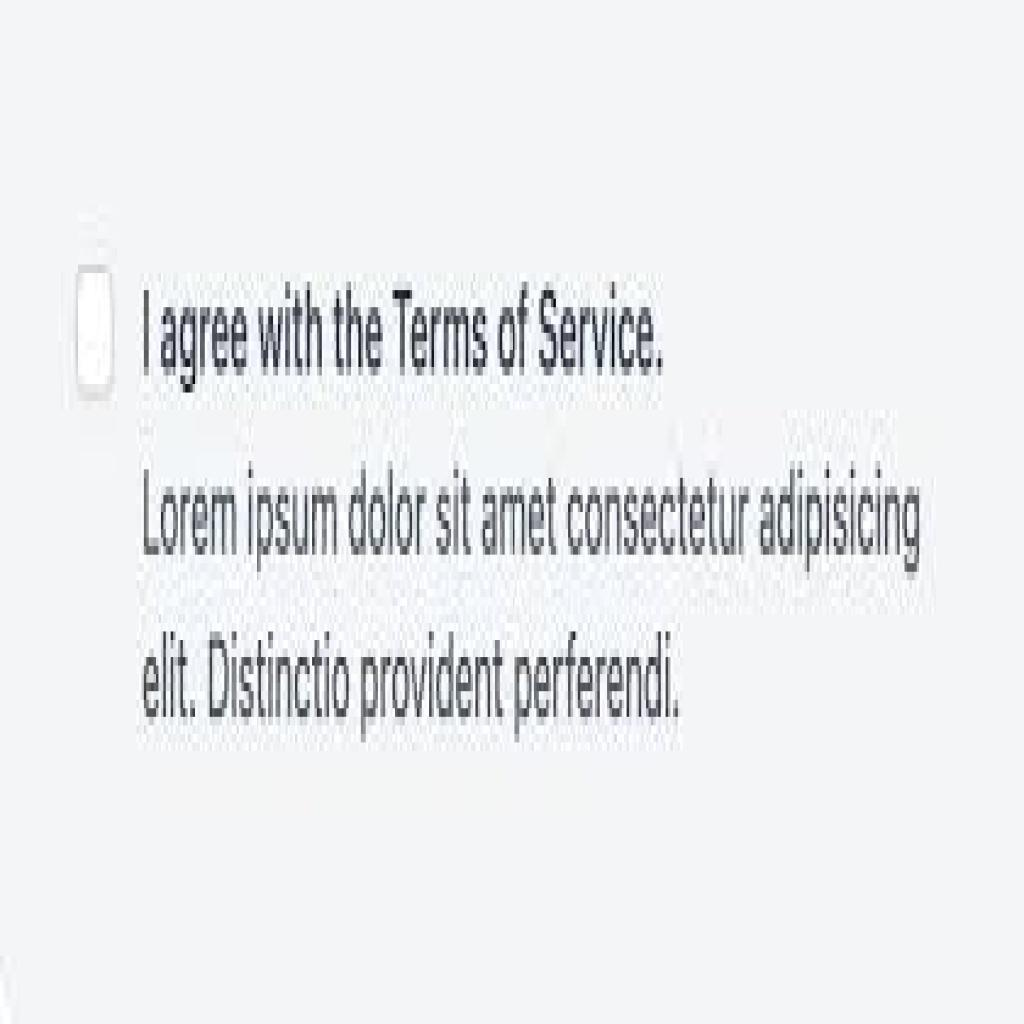checkbox: (76, 266, 117, 402)
